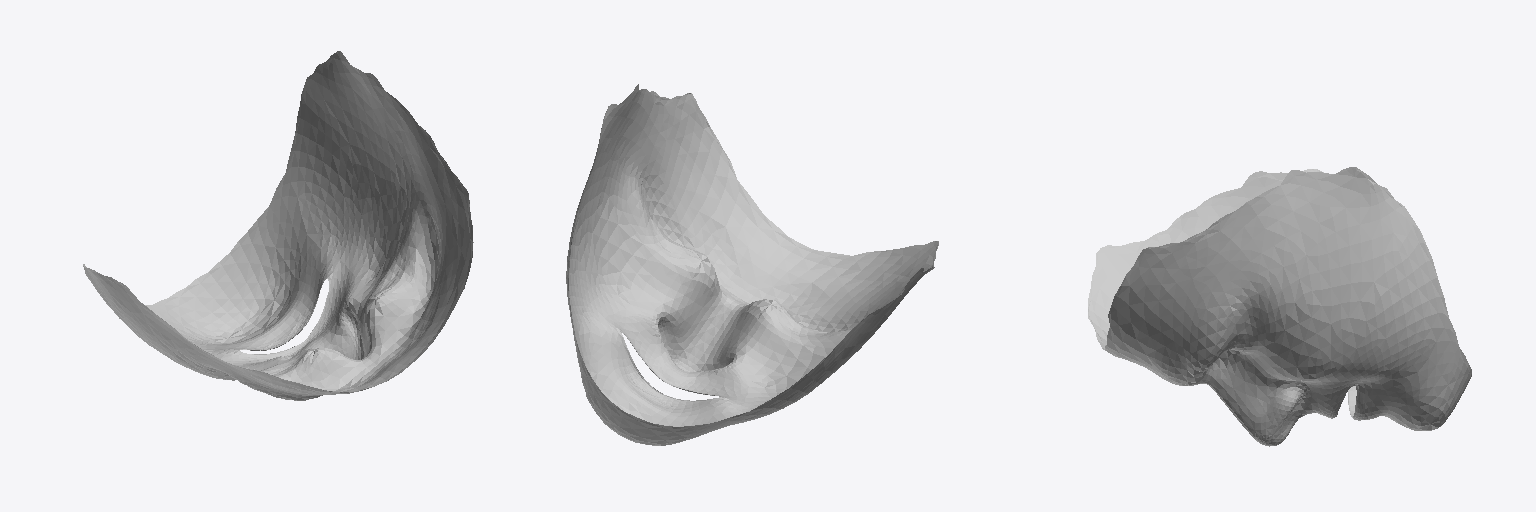
Rendered from face_gab_sfm33.obj.
3 views of the same model, side by side, from view 1: azimuth 30°, elevation 25°; view 2: azimuth 150°, elevation 25°; view 3: azimuth 270°, elevation 25° (orthographic).
Size of the model in its own units: 164 by 152 by 179.